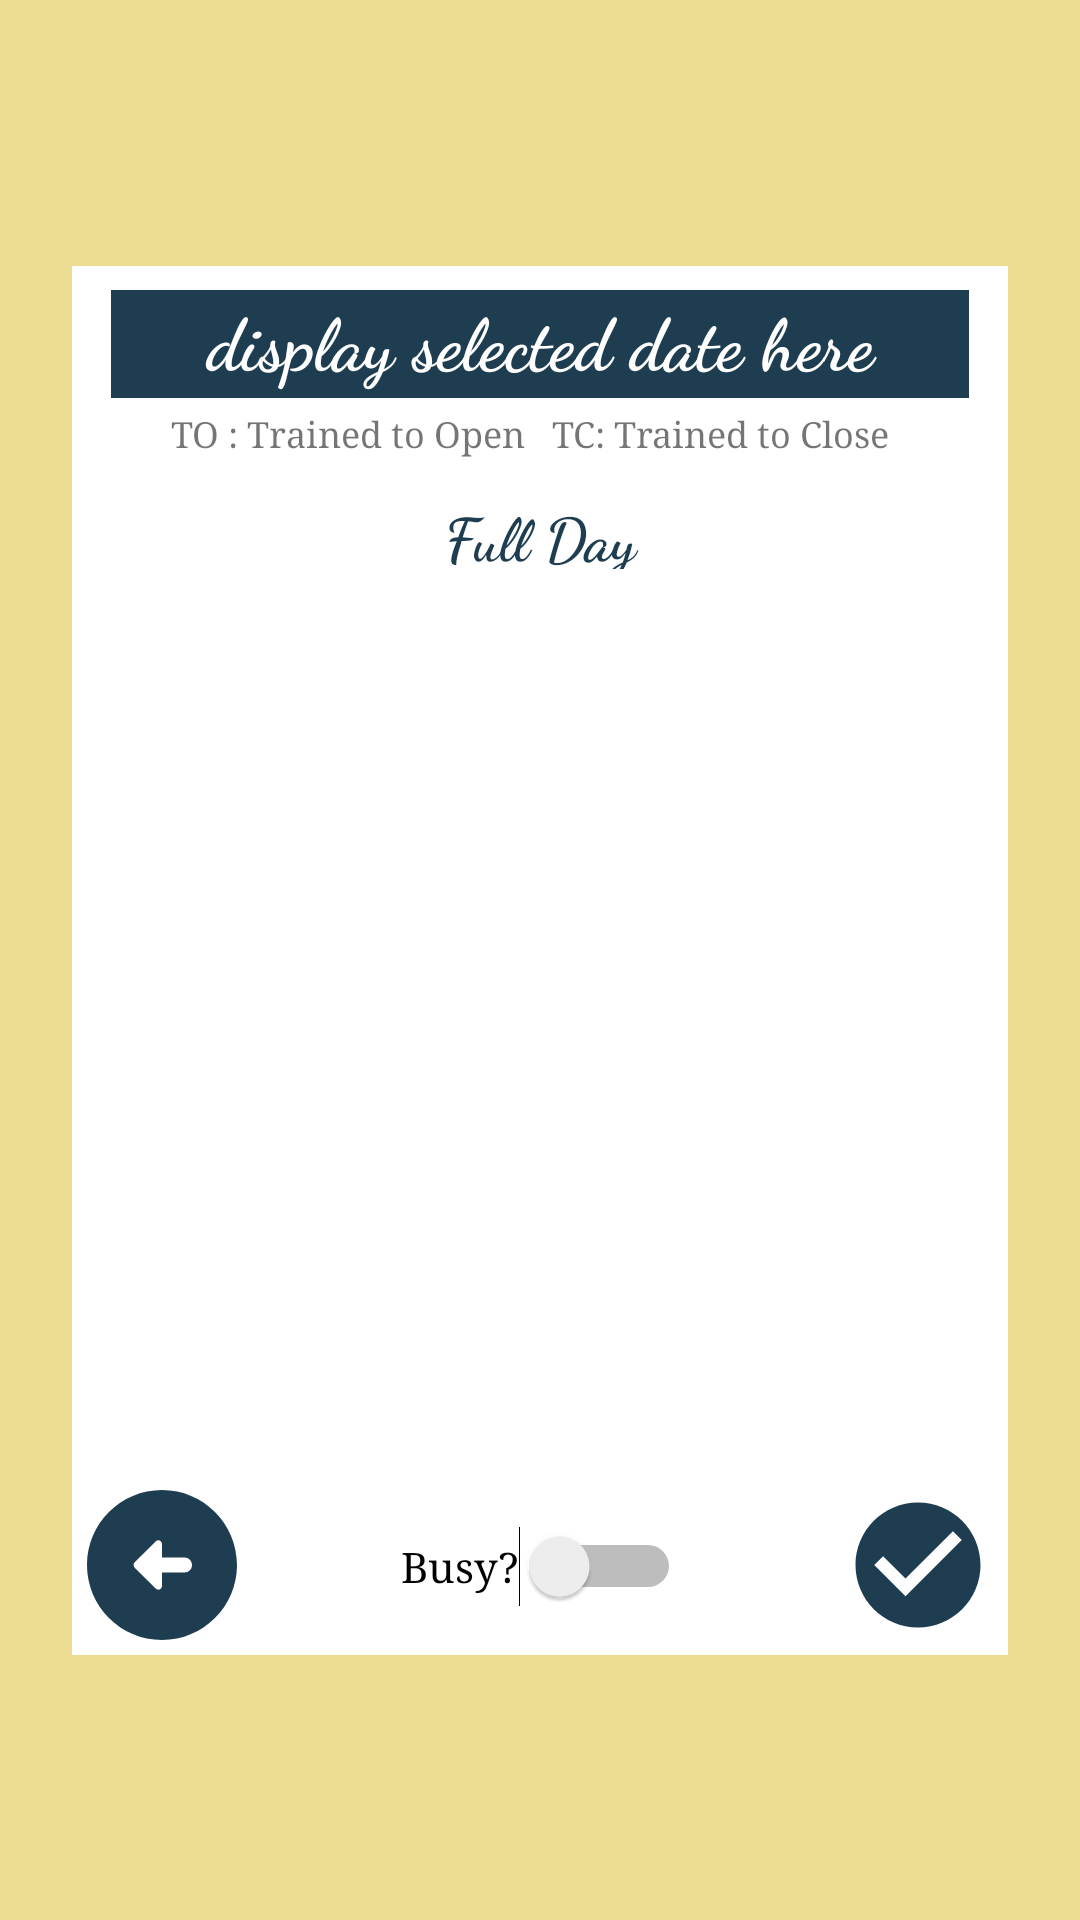

Locate icon controls on the screen. Image size 1080px x 1920px, boxes as bbox=(x1, y1, x2, y2).
arrow circle left: bbox=(87, 1490, 237, 1640)
check circle: bbox=(855, 1502, 981, 1628)
